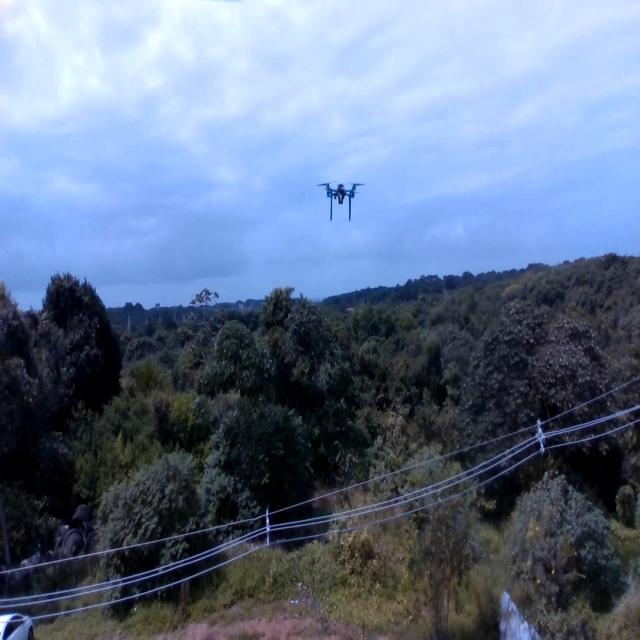-uav-: (314, 163, 368, 230)
